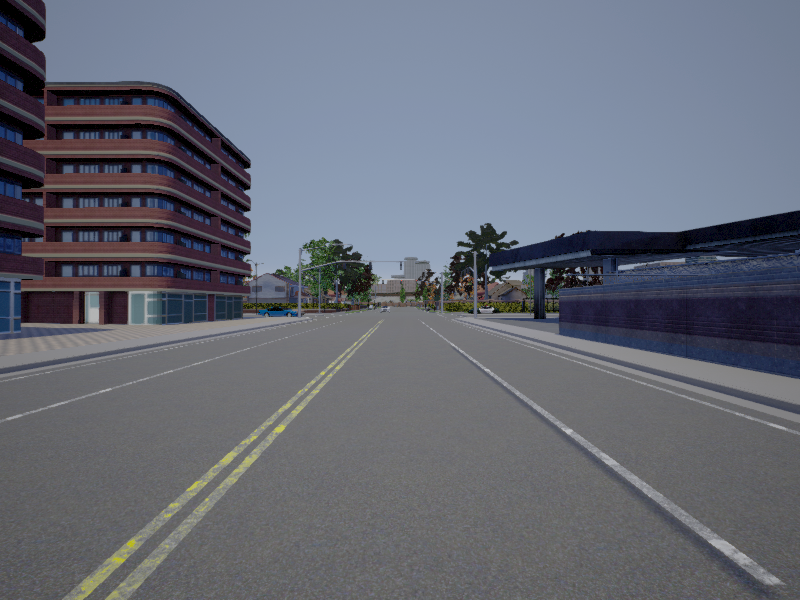benign: (260, 305, 300, 317), (472, 304, 502, 314), (377, 304, 392, 313)
